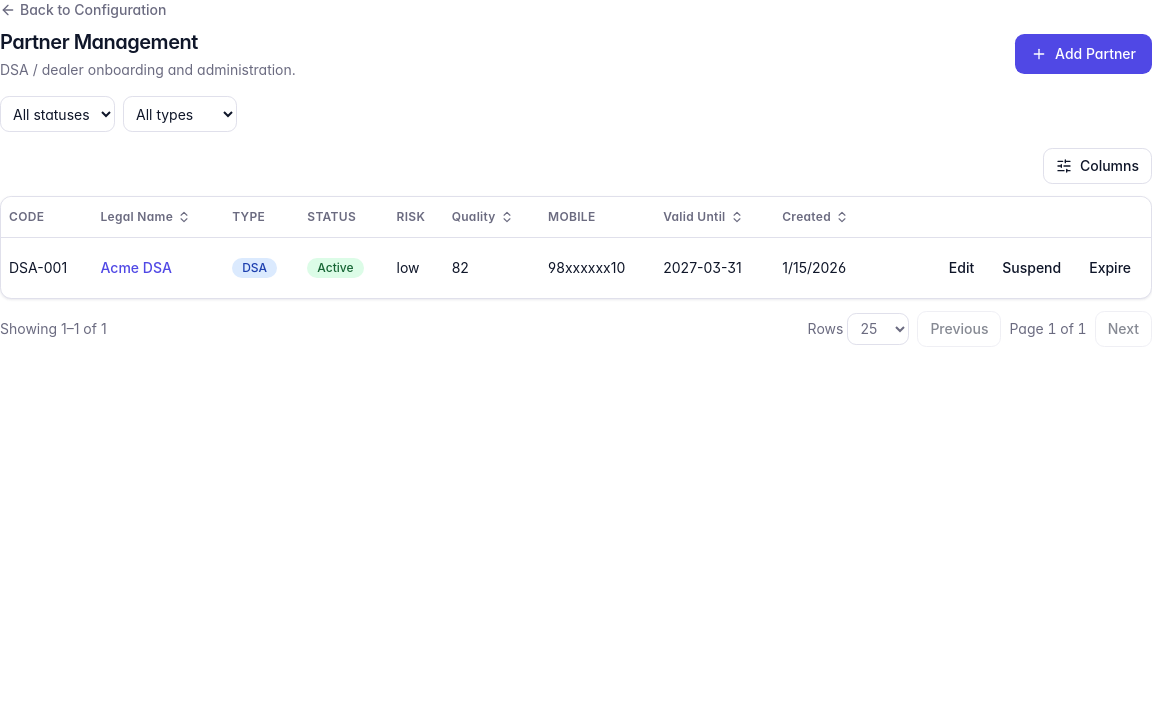
Test: PartnerManagementPage › opens the create modal with the partner-code field
The width and height of the screenshot is (1152, 720).
Click the button "Add Partner": coordinates (1084, 54) [1015, 34, 1151, 74]
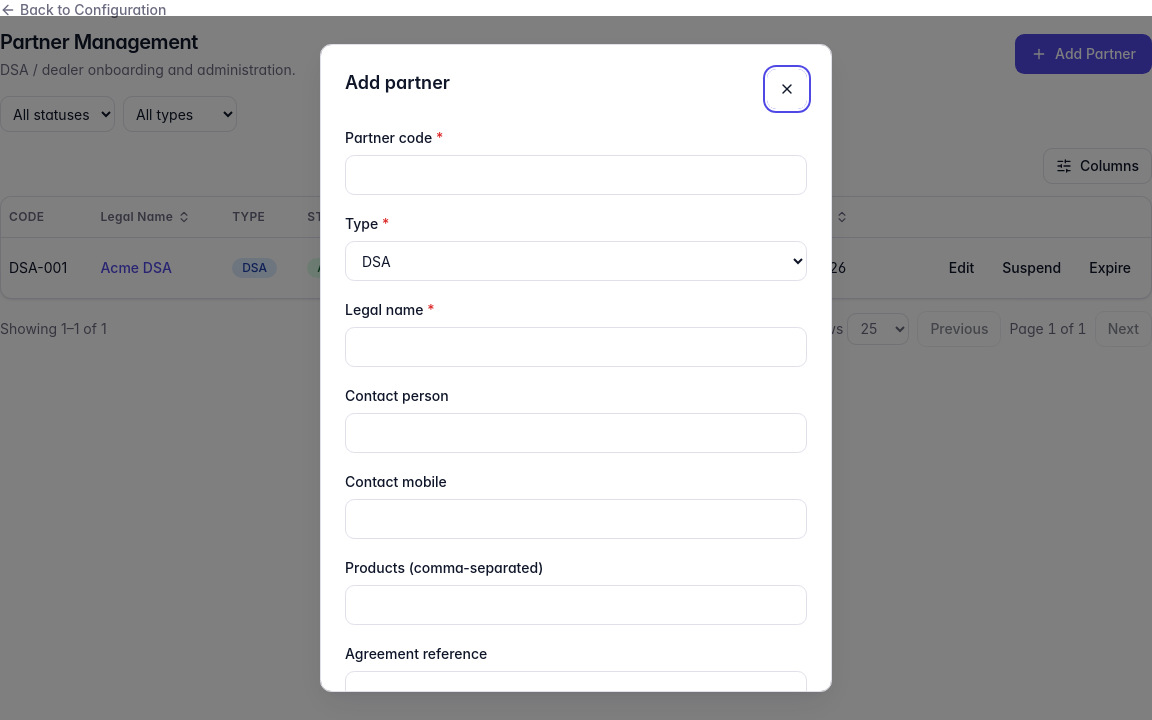
Expected: the field labelled "Partner code *" is shown, [345, 155, 807, 195]
